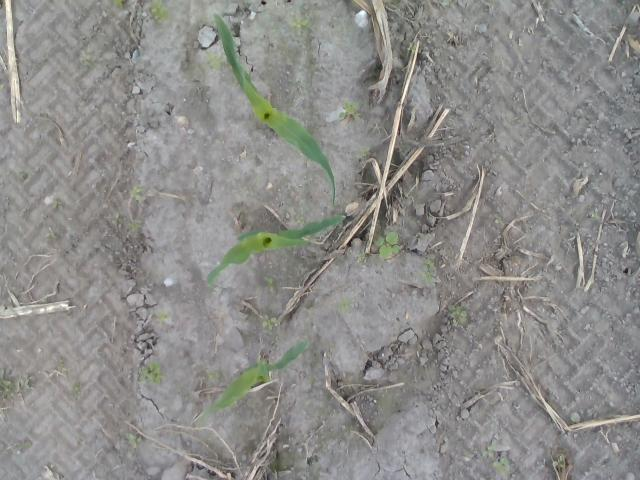Maize: (210, 12, 337, 207), (205, 216, 348, 292), (194, 338, 313, 429)
Weeds: (0, 369, 36, 406), (374, 233, 402, 259), (110, 212, 142, 232), (138, 362, 164, 384), (338, 101, 364, 122), (448, 304, 468, 328), (420, 260, 438, 286), (150, 1, 168, 25), (334, 295, 354, 315), (492, 456, 511, 476), (208, 48, 225, 69), (125, 432, 141, 450), (260, 314, 278, 330), (477, 444, 496, 458), (80, 52, 94, 68), (552, 454, 566, 468), (128, 186, 142, 200), (356, 146, 372, 158), (264, 276, 274, 294), (568, 412, 582, 424), (156, 310, 168, 324), (408, 42, 421, 54), (71, 384, 82, 398), (207, 371, 221, 381), (290, 20, 310, 27), (44, 228, 56, 238), (113, 0, 124, 10), (359, 252, 368, 261), (50, 198, 59, 207), (441, 0, 451, 8), (17, 172, 25, 180), (296, 216, 304, 224)
